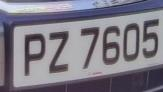0: (121, 20, 142, 68)
5: (141, 16, 161, 65)
6: (101, 21, 123, 73)
7: (77, 24, 102, 74)
P: (22, 28, 49, 82)
Z: (47, 28, 72, 78)
